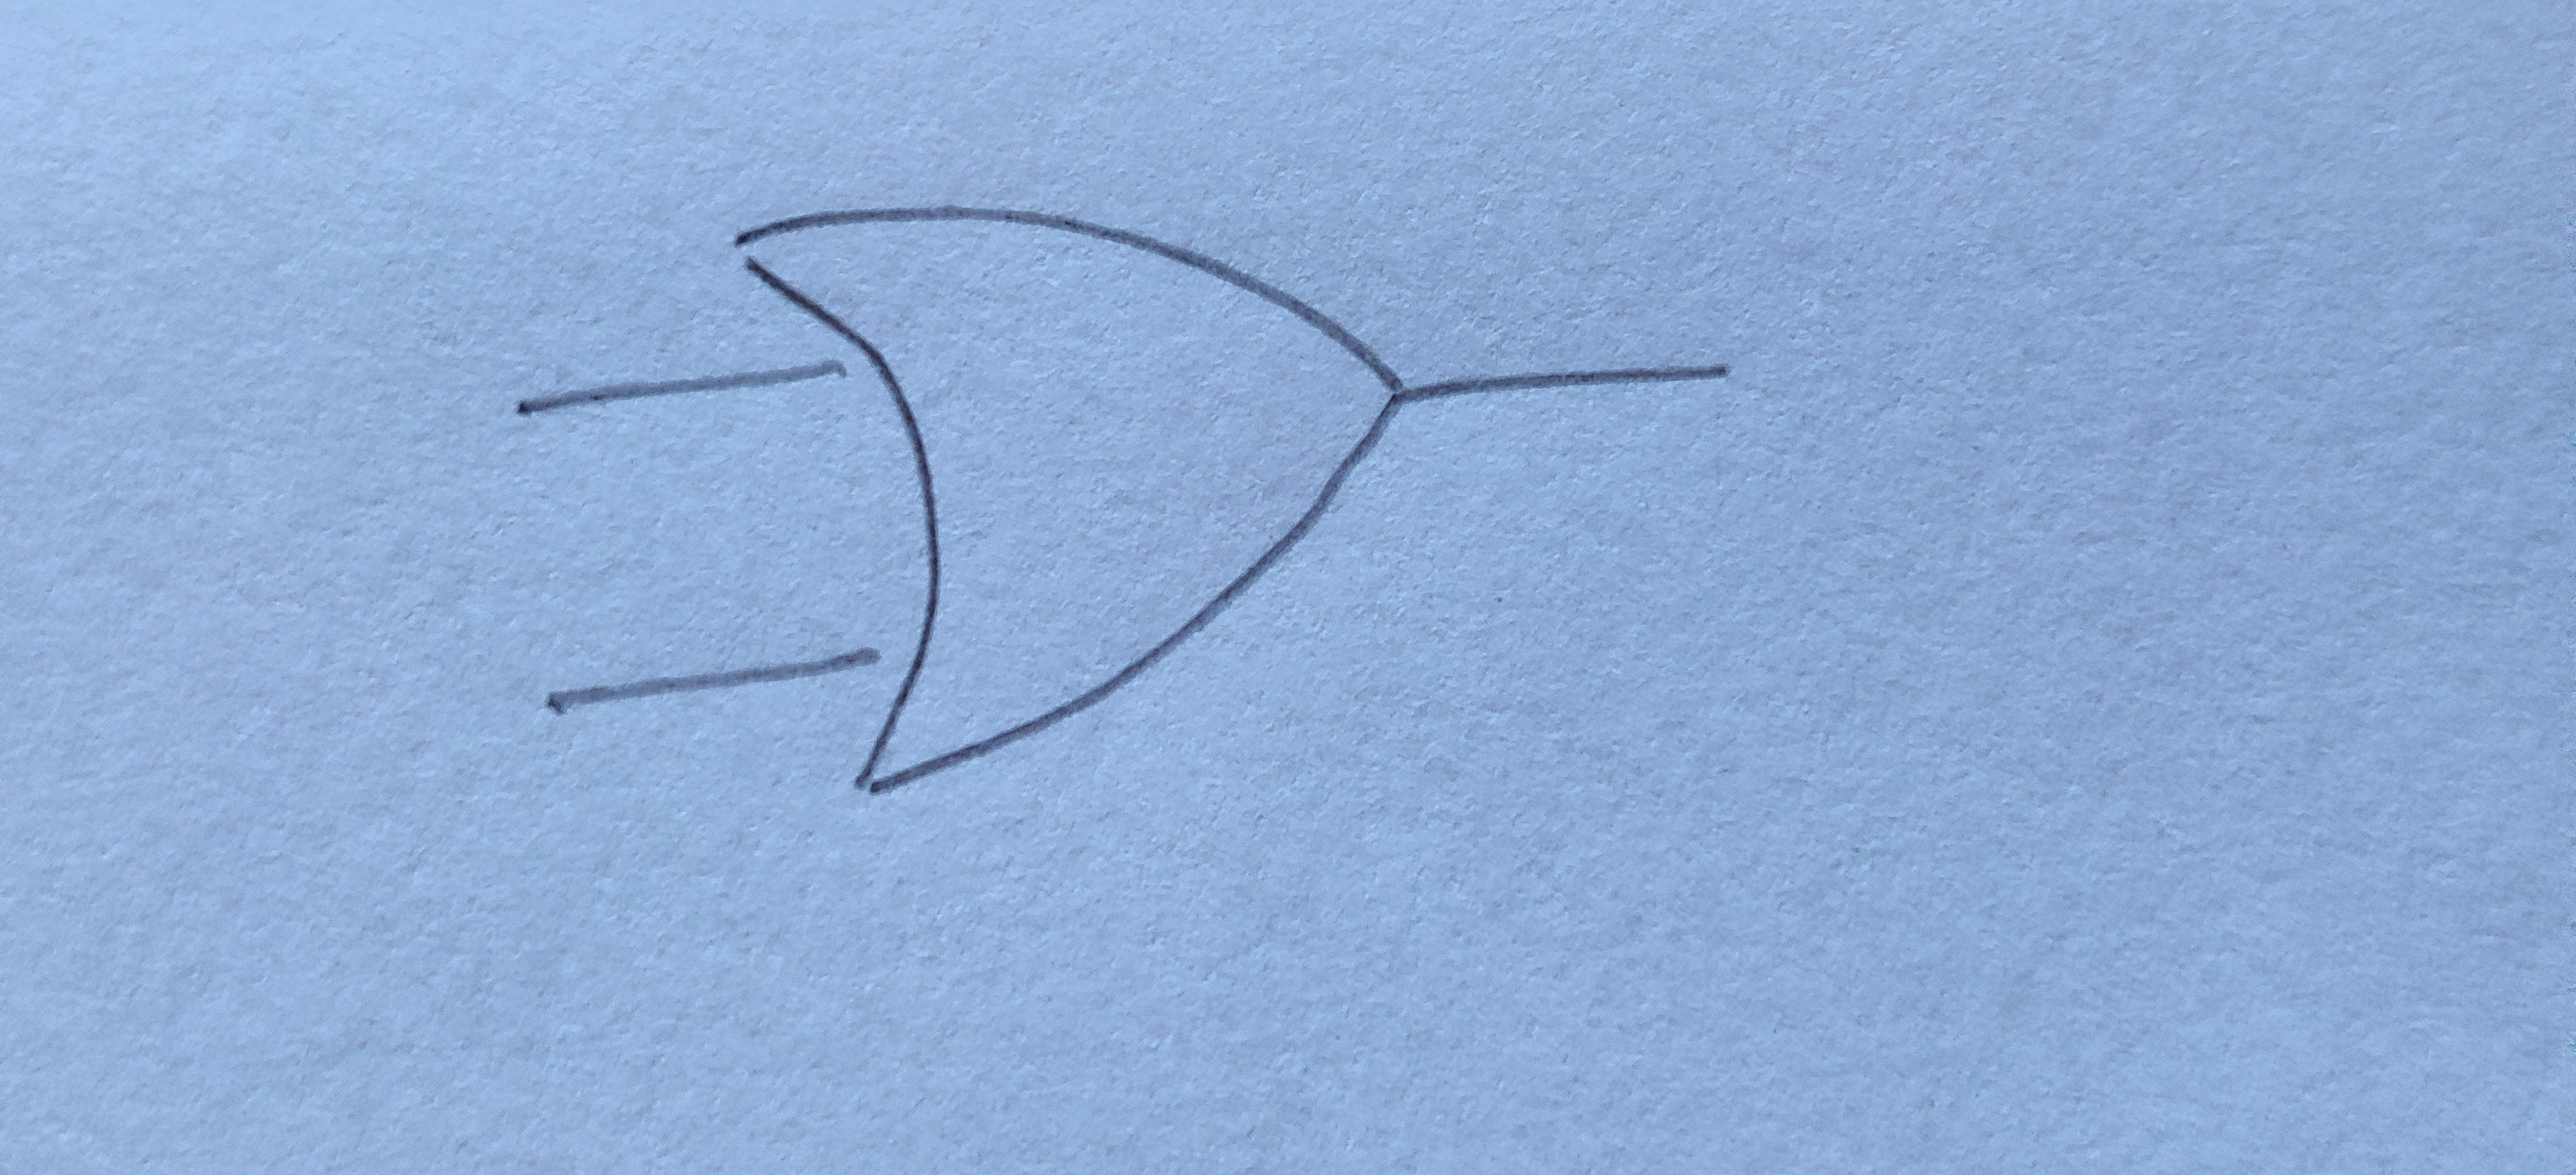or: (746, 205, 1401, 789)
